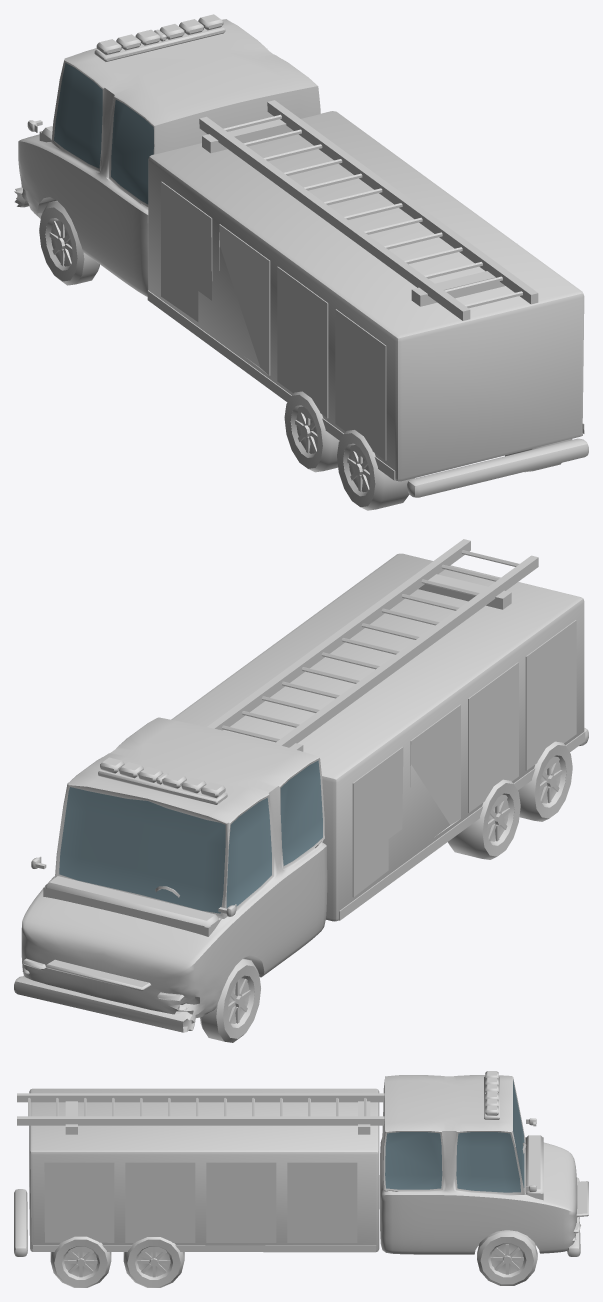
File: car_firetruck_dmg1.glb
The picture shows the model from 3 angles, top to bottom: view 1: azimuth 30°, elevation 25°; view 2: azimuth 150°, elevation 25°; view 3: azimuth 270°, elevation 25°; orthographic projection. The views are drawn at different scales.
Parts seen in each view (by area): view 1: car_firetruck_dmg1; view 2: car_firetruck_dmg1; view 3: car_firetruck_dmg1.
Part boxes in pixels (x1,y1,x2,y2): car_firetruck_dmg1: (14,14,588,510); car_firetruck_dmg1: (14,539,588,1042); car_firetruck_dmg1: (14,1071,588,1287).
Size of the model in its own units: 2.68 by 3.01 by 9.44.
